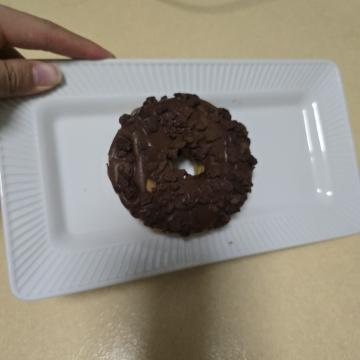doughnut: (82, 98, 247, 261)
